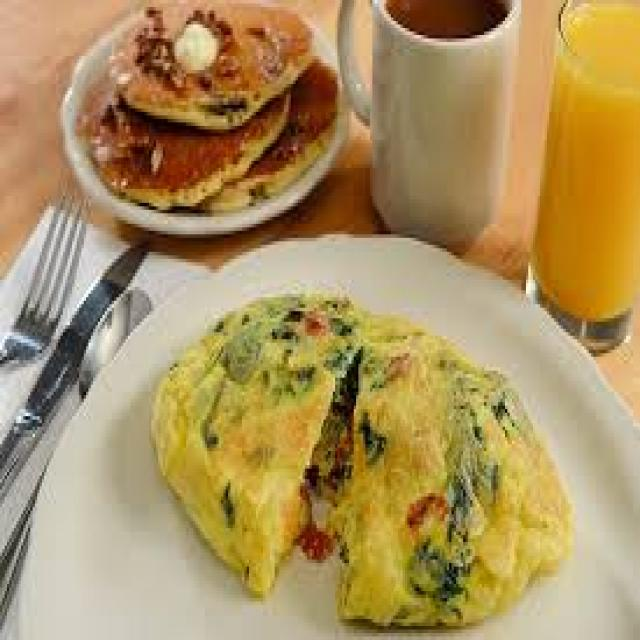Omelette: (142, 266, 577, 636)
Pancakes: (83, 2, 336, 213)
